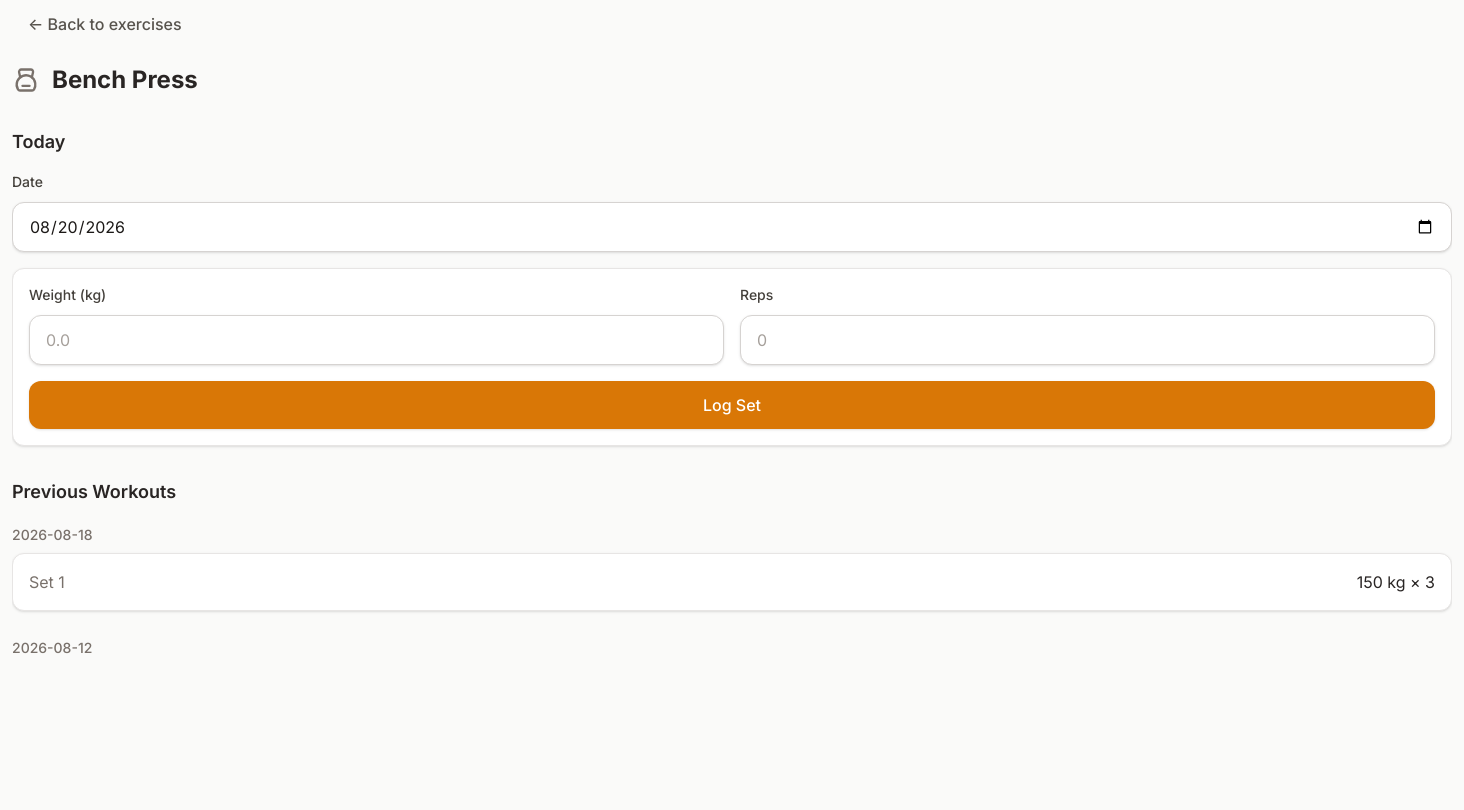
Collapsible history for sessions older than 7 days › expands an old session when its date heading is clicked, showing sets and comment and setting aria-expanded true
Click the button "2026-08-12".
click(52, 648)  # box [12,638,92,658]
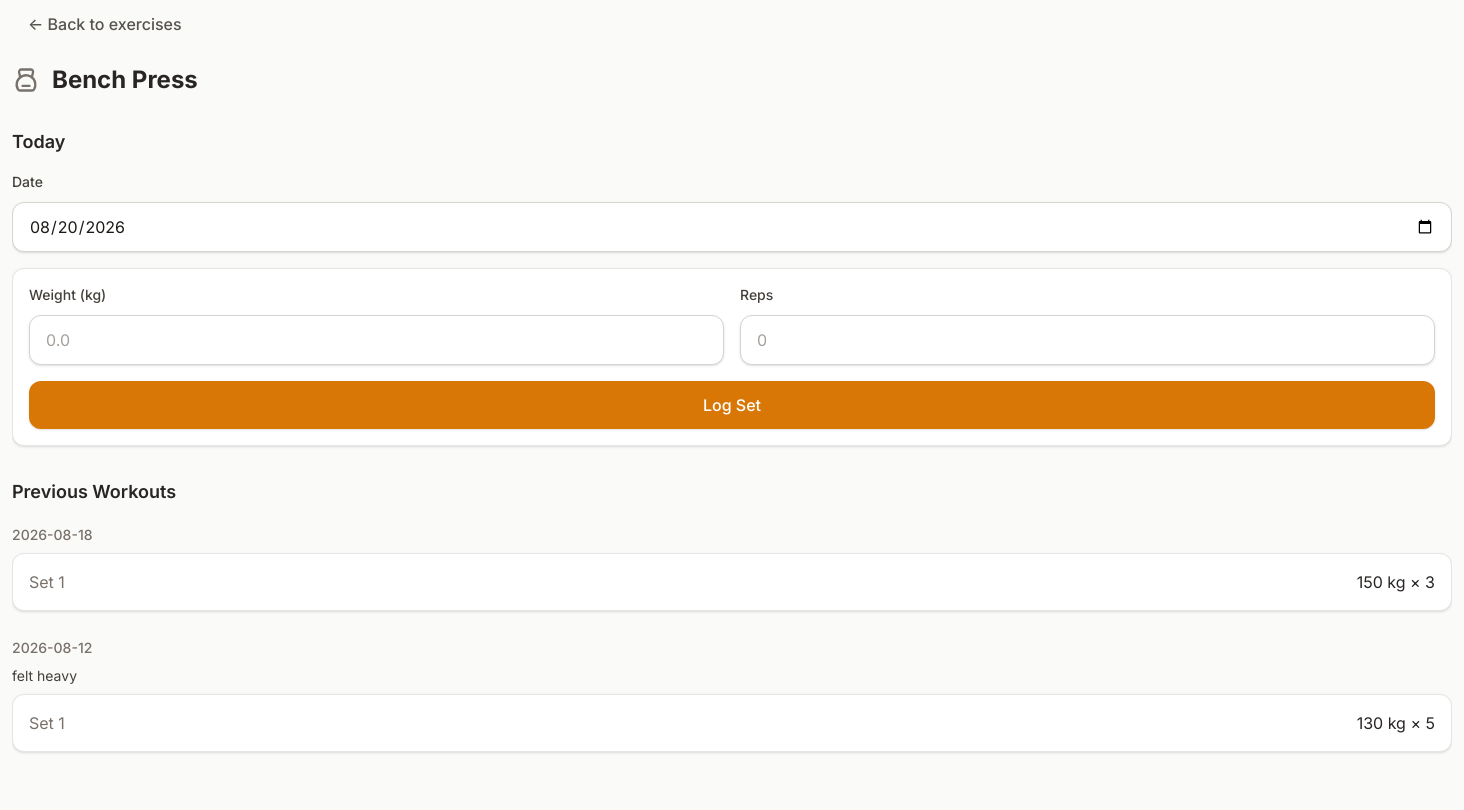
Expected: the text "130 kg × 5" is shown, [1357,711,1435,735]
Expected: the text "felt heavy" is shown, [12,667,77,684]
